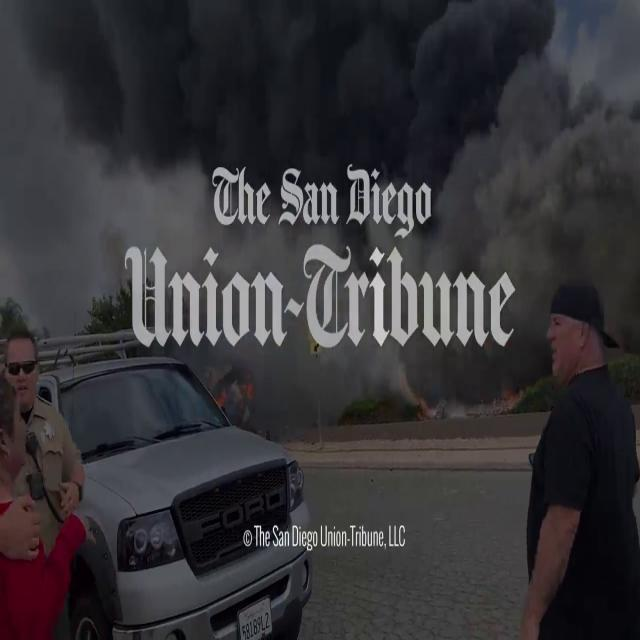Smoke: (11, 0, 634, 205)
